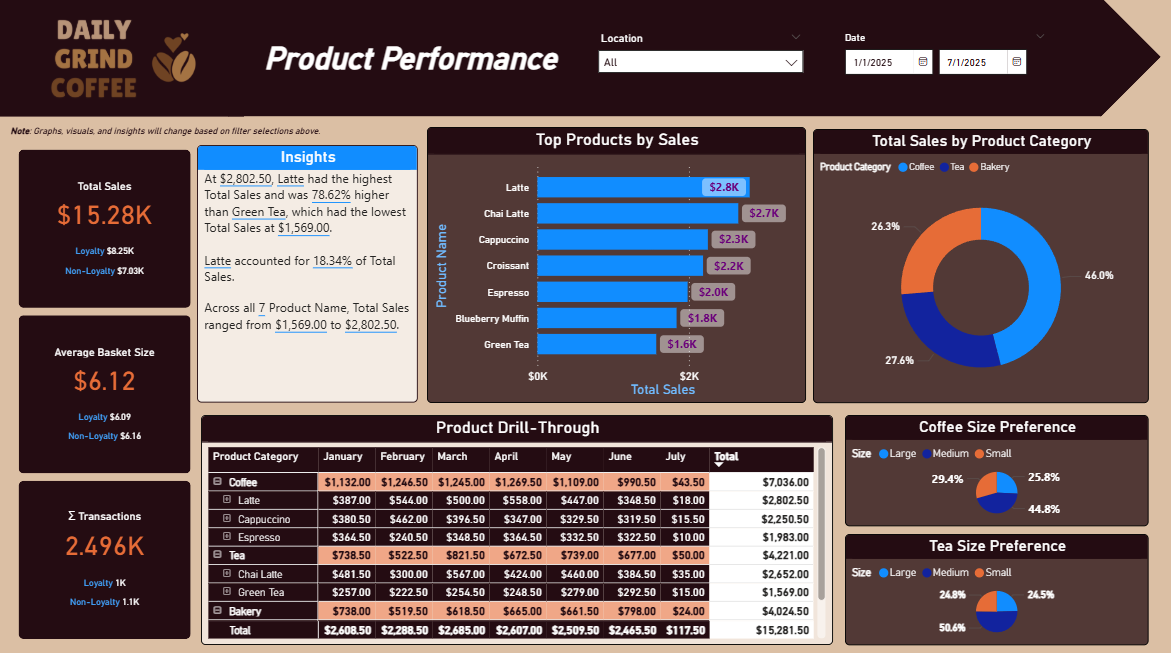

The dashboard page shown, as its layout file describes it:
{"tool":"powerbi","page":{"name":"Product Performance","canvas":[1280,720],"ordinal":1},"visuals":[{"type":"shape","box":[0,0,266,130],"z":0},{"type":"shape","box":[249,0,1014,130],"z":1000},{"type":"textbox","box":[284,25,342,83],"z":2000},{"type":"slicer","fields":{"Values":["DimDate.Date"]},"box":[907,33,243,65],"z":3000},{"type":"slicer","fields":{"Values":["DimLocation.location"]},"box":[641,33,243,67],"z":4000},{"type":"barChart","title":"Top Products by Sales","fields":{"Category":["FactSales.product_name"],"Y":["Sum(FactSales.total_price)"]},"box":[465.2,141.3,412,300],"z":5000},{"type":"donutChart","title":"Total Sales by Product Category","fields":{"Category":["FactSales.product_category"],"Y":["FactSales.total_sales"]},"box":[884.8,143.5,365.2,297.8],"z":6000},{"type":"pieChart","title":"Coffee Size Preference","fields":{"Y":["CountNonNull(FactSales.transaction_id)"],"Series":["FactSales.size"]},"box":[919.6,454.3,329.9,121.1],"z":6000,"group":"g1"},{"type":"image","box":[132.6,22.8,115.2,84.8],"z":7000,"group":"g2"},{"type":"pivotTable","title":"Product Drill-Through","fields":{"Rows":["FactSales.product_category","FactSales.product_name","FactSales.size"],"Values":["Sum(FactSales.total_price)"],"Columns":["DimDate.Month"]},"box":[219.6,454.3,687,250],"z":7000},{"type":"textbox","title":"Insights","box":[215.2,160.9,240.2,280.4],"z":8000},{"type":"textbox","box":[8,130,375,34],"z":9000},{"type":"group","id":"g1","title":"Group 1","box":[919.6,454.3,329.3,250],"z":10000},{"type":"pieChart","title":"Tea Size Preference","fields":{"Y":["CountNonNull(FactSales.transaction_id)"],"Series":["FactSales.size"]},"box":[919.6,583.1,329.9,121.1],"z":10000,"group":"g1"},{"type":"group","id":"g2","title":"Group 2","box":[31.5,5.4,216.3,120.7],"z":11000},{"type":"cardVisual","fields":{"Data":["FactSales.total_sales","FactSales.average_basket_order_size","CountNonNull(FactSales.transaction_id)"]},"box":[16.3,160.9,197.8,543.5],"z":12000},{"type":"image","box":[31.5,5.4,143.5,120.7],"z":13001,"group":"g2"}]}

Visuals, with their boxes in screenshot pixels (x1, y1, x2, y2), scaled from the page's 1280x720 canvas onto the 1171x653 screenshot:
shape: pyautogui.locateOnScreen(0, 0, 243, 118)
shape: pyautogui.locateOnScreen(228, 0, 1155, 118)
textbox: pyautogui.locateOnScreen(260, 23, 573, 98)
slicer - DimDate.Date: pyautogui.locateOnScreen(830, 30, 1052, 89)
slicer - DimLocation.location: pyautogui.locateOnScreen(586, 30, 809, 91)
"Top Products by Sales" barChart: pyautogui.locateOnScreen(426, 128, 803, 400)
"Total Sales by Product Category" donutChart: pyautogui.locateOnScreen(809, 130, 1144, 400)
"Coffee Size Preference" pieChart: pyautogui.locateOnScreen(841, 412, 1143, 522)
image: pyautogui.locateOnScreen(121, 21, 227, 98)
"Product Drill-Through" pivotTable: pyautogui.locateOnScreen(201, 412, 829, 639)
"Insights" textbox: pyautogui.locateOnScreen(197, 146, 417, 400)
textbox: pyautogui.locateOnScreen(7, 118, 350, 149)
"Group 1" group: pyautogui.locateOnScreen(841, 412, 1143, 639)
"Tea Size Preference" pieChart: pyautogui.locateOnScreen(841, 529, 1143, 639)
"Group 2" group: pyautogui.locateOnScreen(29, 5, 227, 114)
cardVisual - FactSales.total_sales x FactSales.average_basket_order_size: pyautogui.locateOnScreen(15, 146, 196, 639)
image: pyautogui.locateOnScreen(29, 5, 160, 114)
